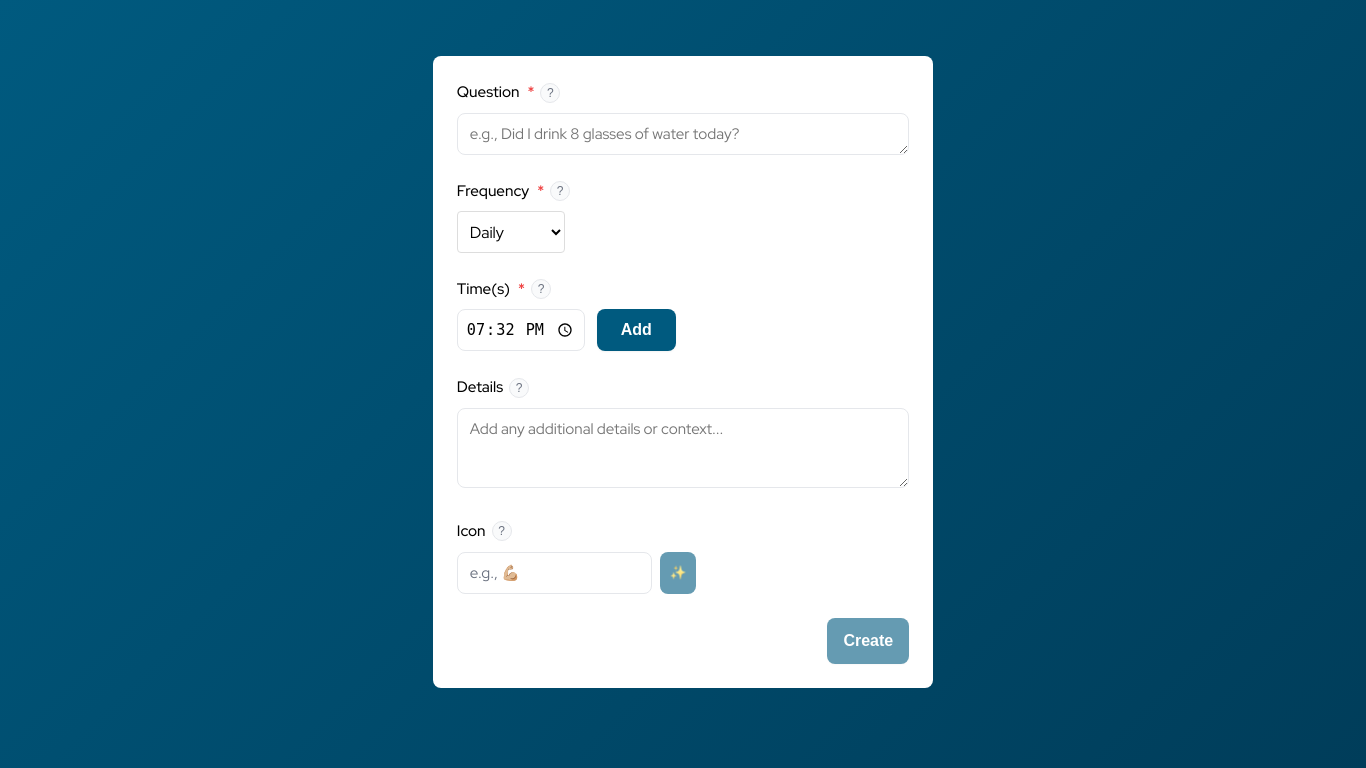
Test case: TrackingForm › should show date field on same line as frequency when One-time is selected
Select "One-time" in the dropdown with id "frequency-preset" at point(511, 232), box [457,211,565,253]
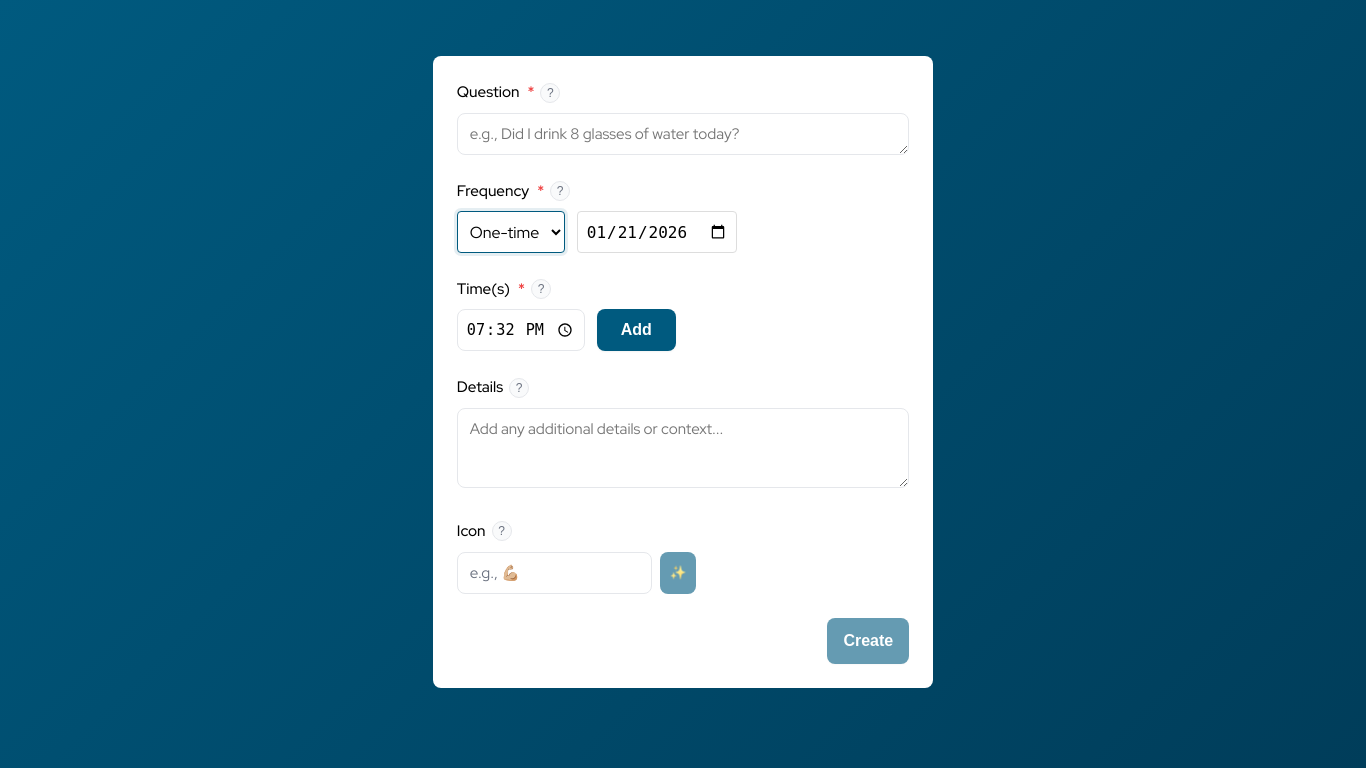
Expected: the date field with id "one-time-date" is shown, [577,211,737,253]
